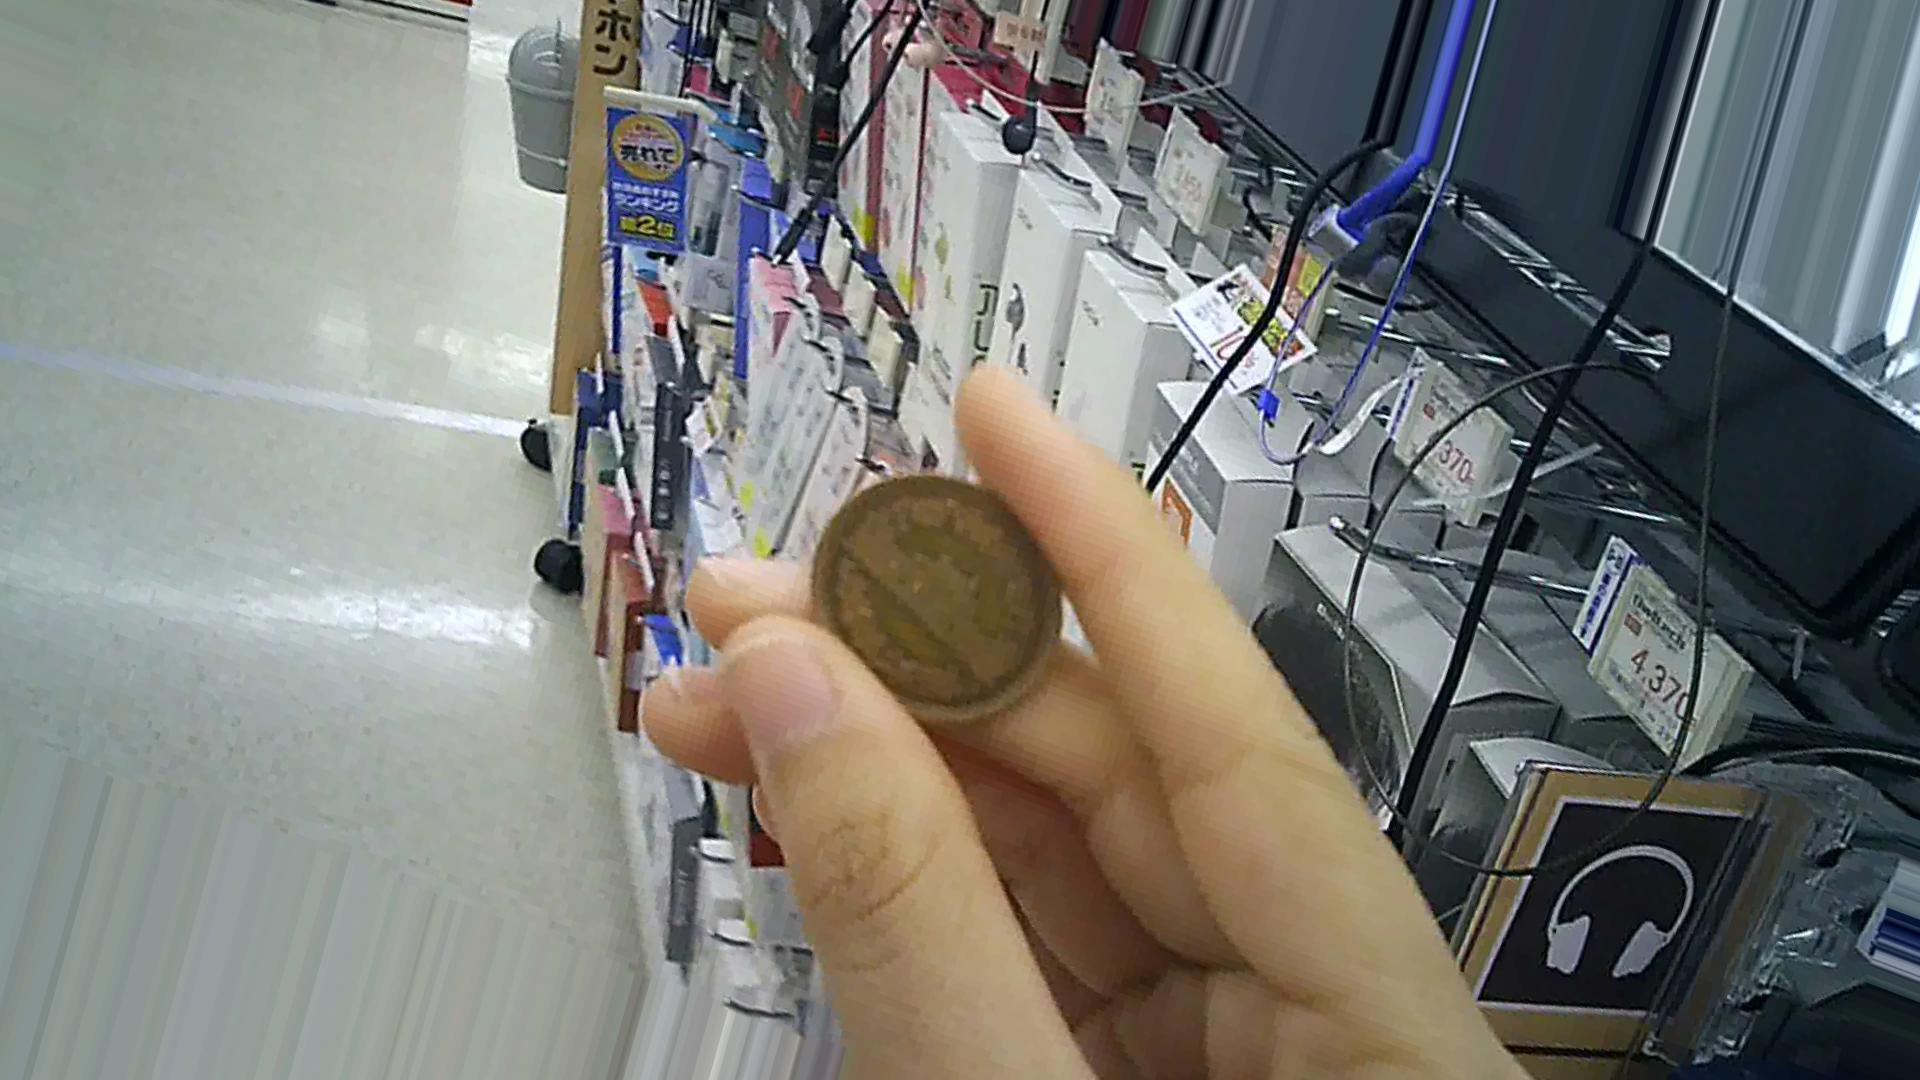10 Yen: (766, 450, 1089, 735)
